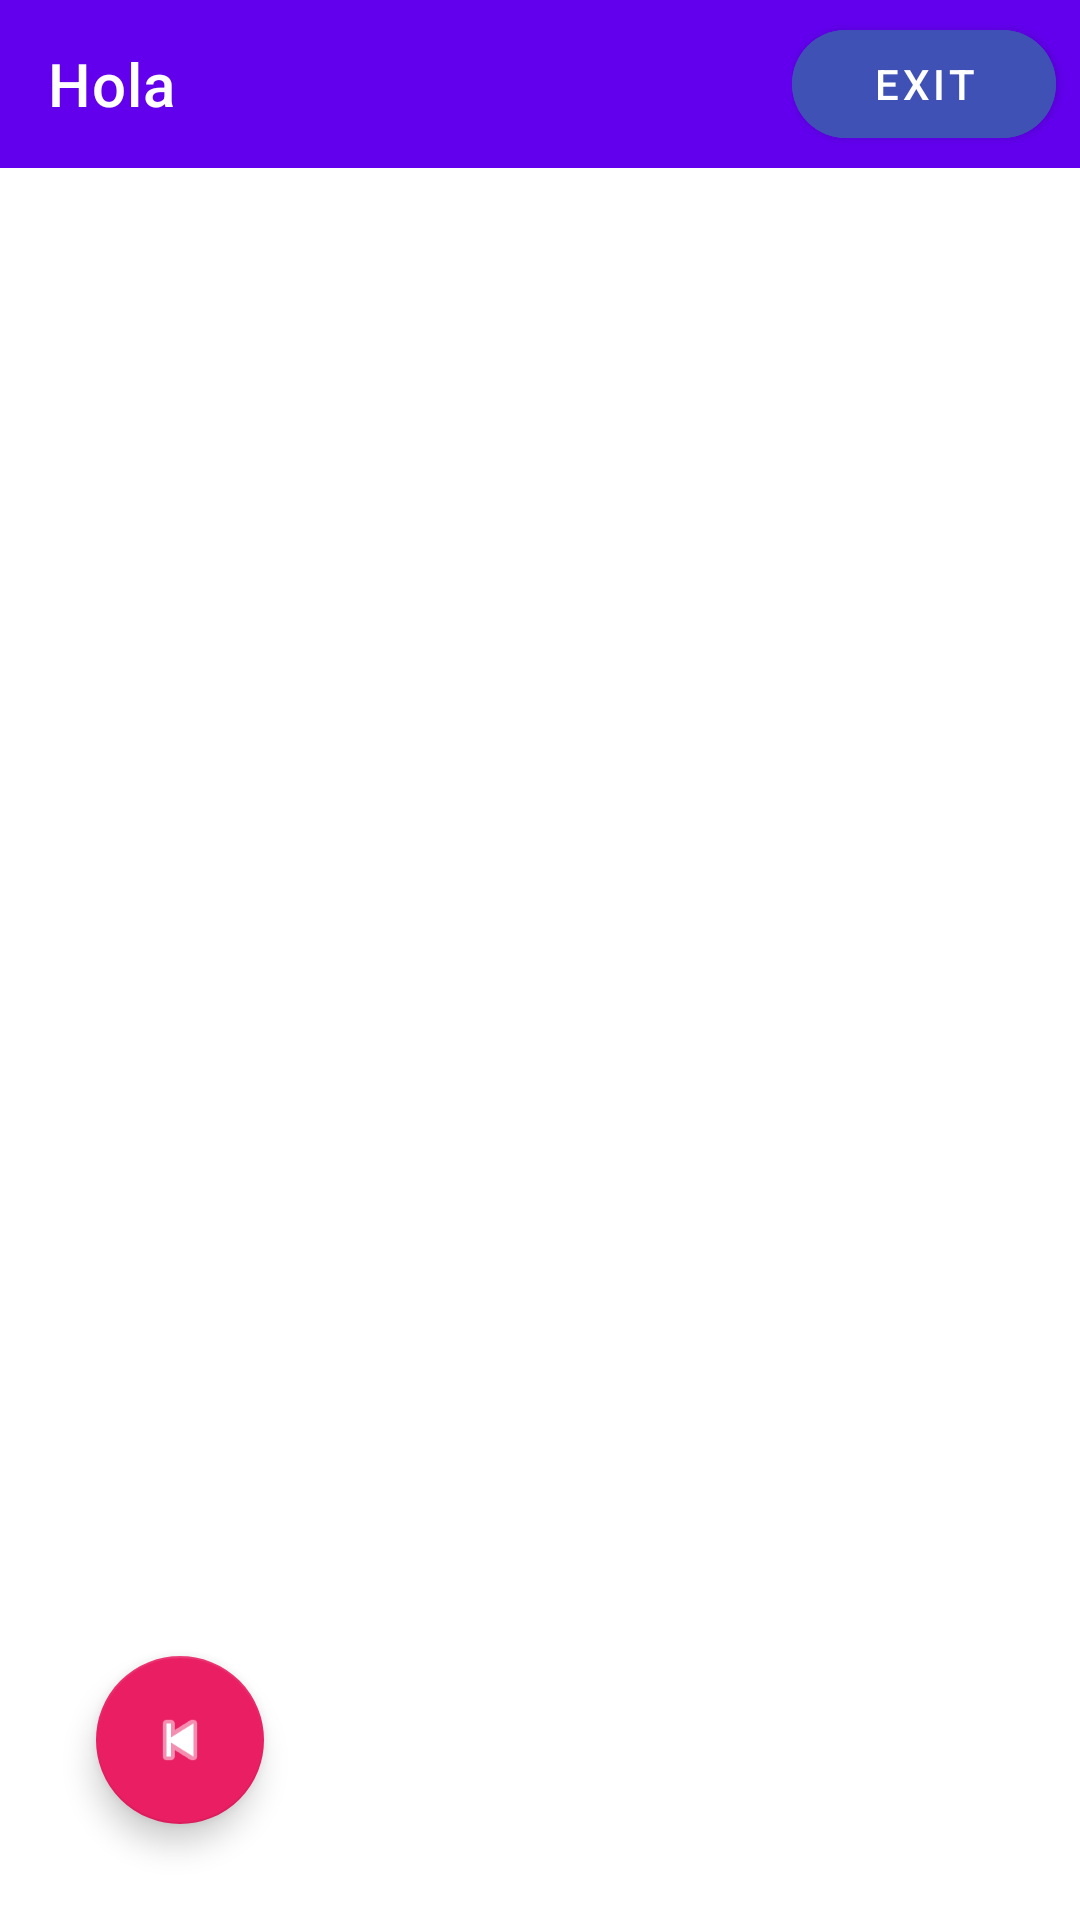

Locate icon controls on the screen. Image size 1080px×1920px, boxes as rect(x1, y1, x2, y2).
previous: rect(96, 1656, 264, 1824)
